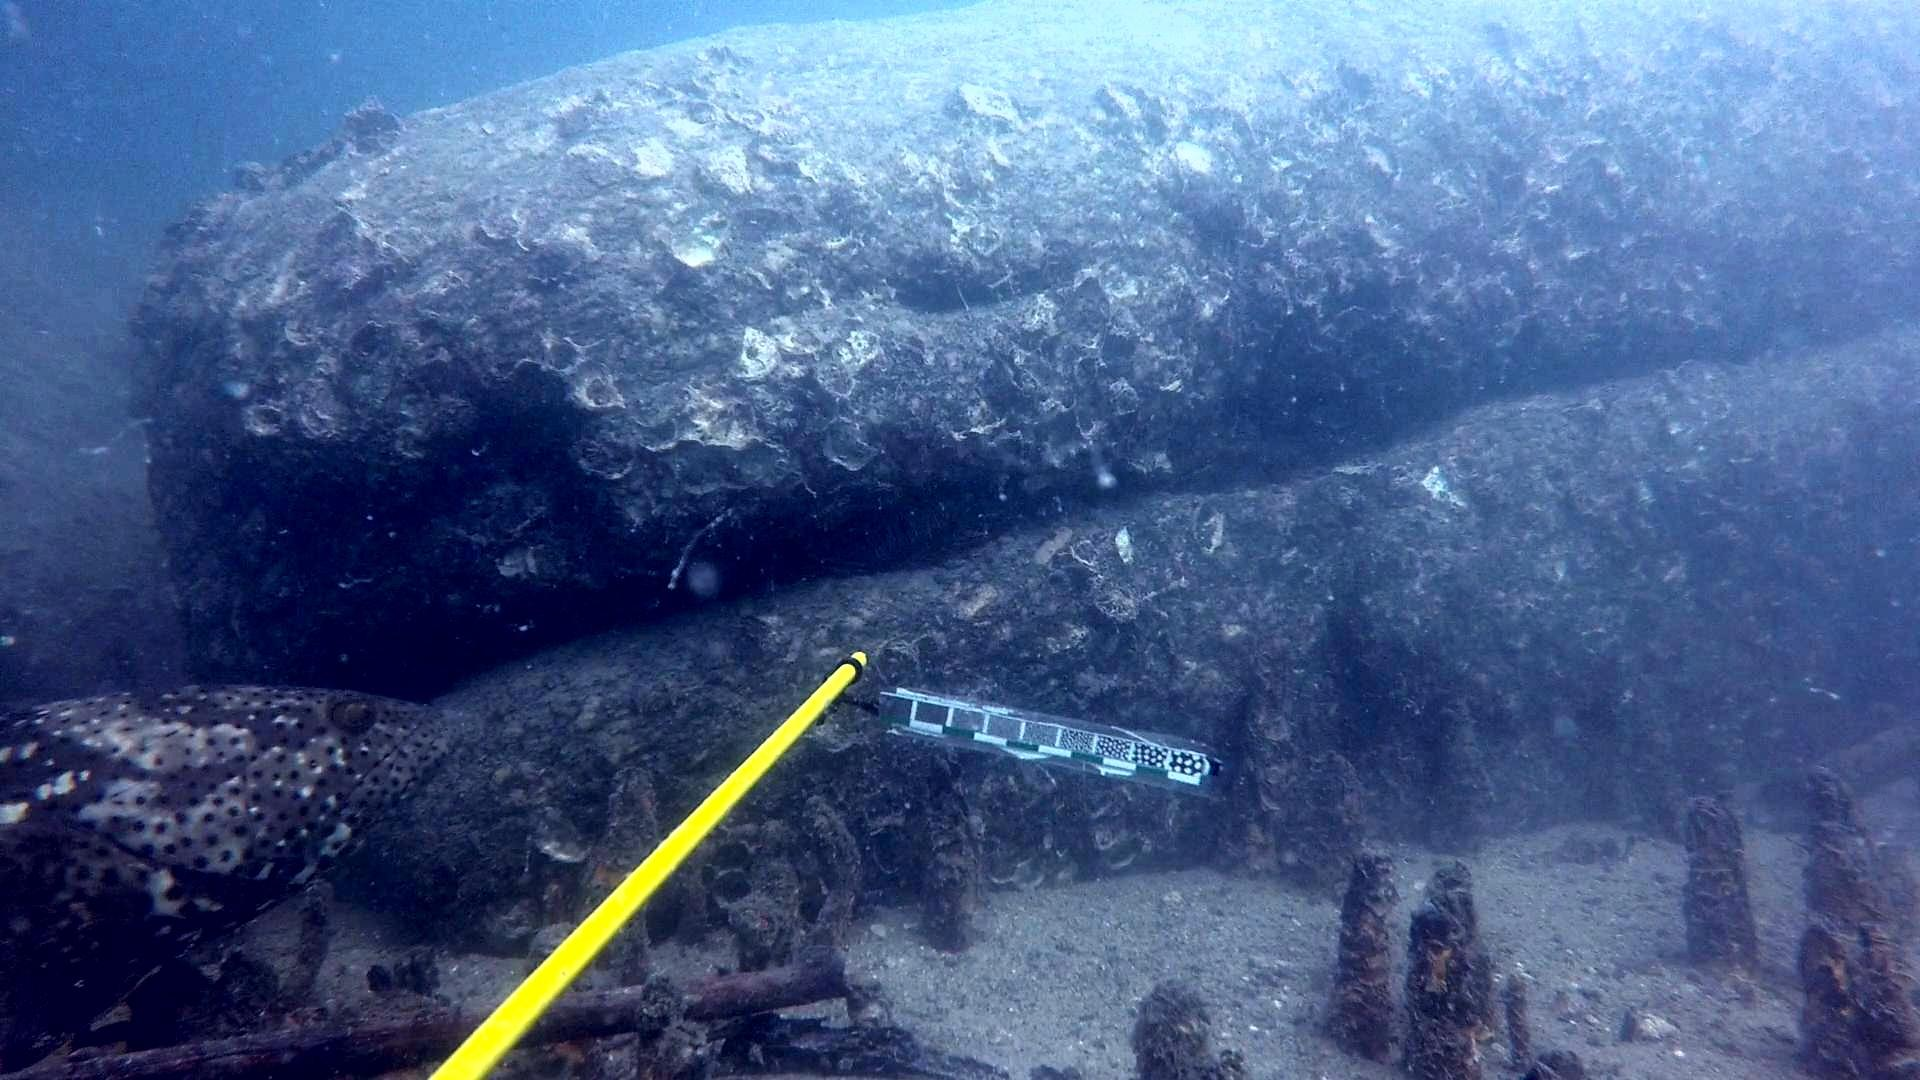epinephelus: (0, 680, 471, 1080)
